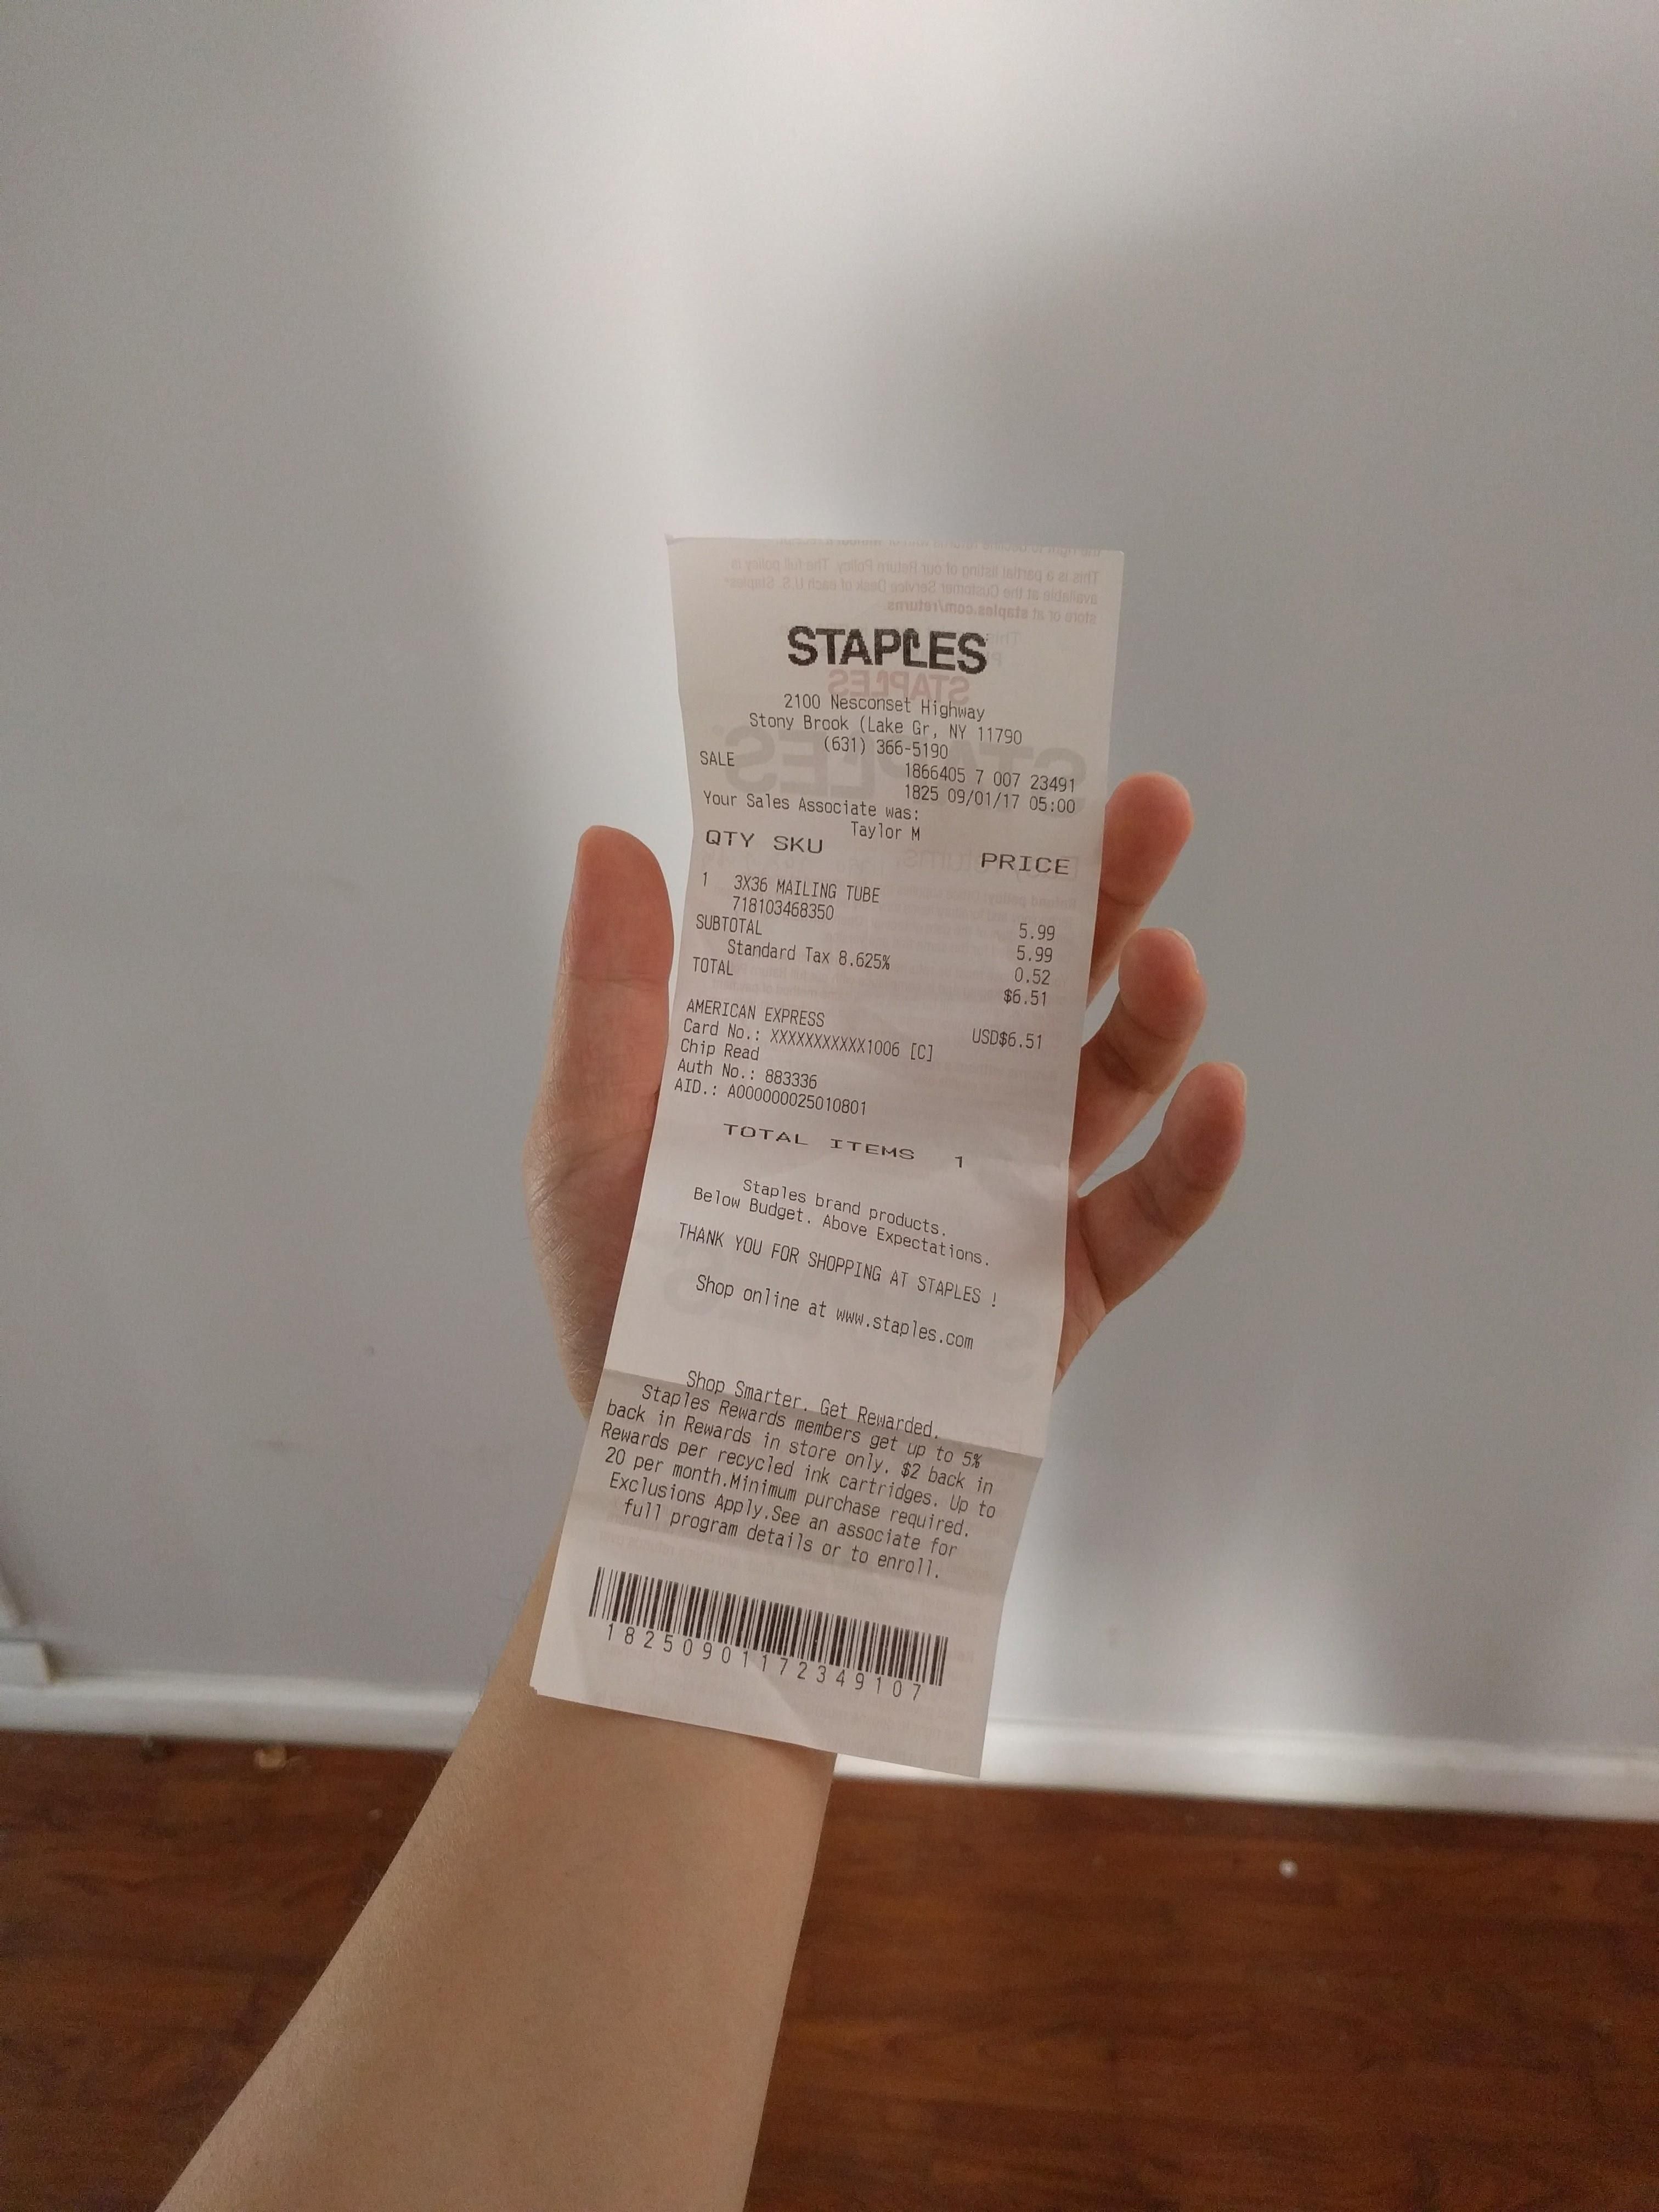paper: (429, 364, 1572, 2029)
